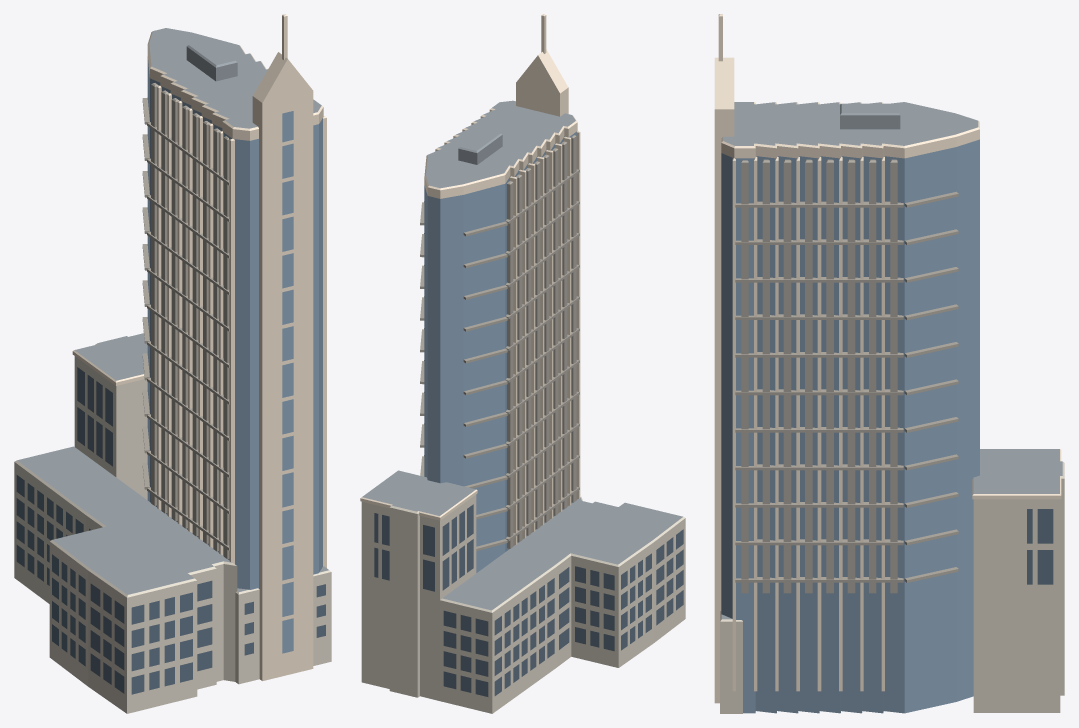
Rendered from atx-360-condominiums.glb.
3 views of the same model, side by side, from view 1: azimuth 30°, elevation 25°; view 2: azimuth 150°, elevation 25°; view 3: azimuth 270°, elevation 25° (orthographic). The views are drawn at different scales.
Visible parts, largest first — view 1: 360 Condominiums; view 2: 360 Condominiums; view 3: 360 Condominiums.
Boxes of the visible parts, left/top/right/bottom form: 360 Condominiums: left=14, top=14, right=331, bottom=713; 360 Condominiums: left=360, top=14, right=685, bottom=713; 360 Condominiums: left=714, top=14, right=1064, bottom=713.
Size of the model in its own units: 58.09 by 173 by 81.26.
